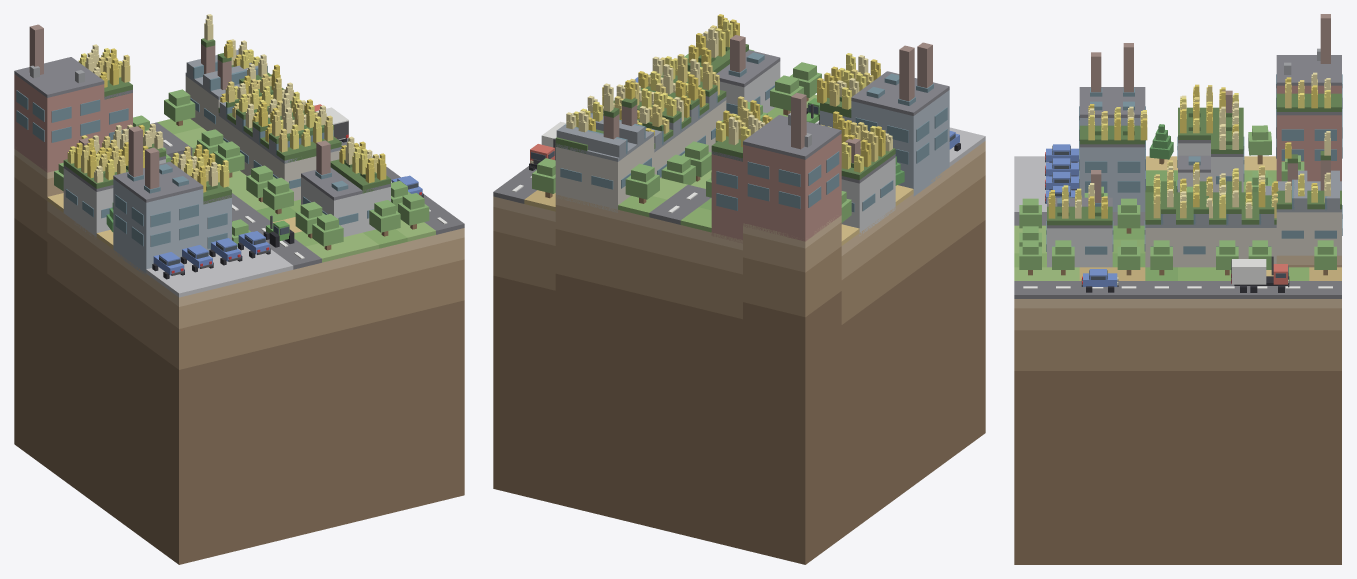
Rendered from block_9_urbanfarm_50.glb.
The picture shows the model from 3 angles, left to right: view 1: azimuth 30°, elevation 25°; view 2: azimuth 150°, elevation 25°; view 3: azimuth 270°, elevation 25°; orthographic projection. The views are drawn at different scales.
Visible parts, largest first — view 1: Patch_LowerLeft_b09_UF, Factories_LowerLeft_b09_UF, Ground_LowerLeft_b09_UF, UFR_Factories_LowerLeft_b09_UF, Parking_LowerLeft_b09_UF, Roads_LowerLeft_b09_UF, Asset_Tree_Round.001_UF, Asset_Tree_Round.021_UF, Asset_Tree_Round.022_UF, Asset_Tree_Round.023_UF, Asset_Tree_Round.013_UF, Asset_Tree_Round.007_UF (+7 smaller); view 2: Patch_LowerLeft_b09_UF, Factories_LowerLeft_b09_UF, UFR_Factories_LowerLeft_b09_UF, Ground_LowerLeft_b09_UF, Roads_LowerLeft_b09_UF, Asset_Tree_Round.001_UF, Asset_Tree_Round.017_UF, Asset_Tree_Round.005_UF, Asset_Truck.001_UF, Asset_Tree_Round.002_UF, Asset_Tree_Round.007_UF, Asset_Tree_Round.021_UF (+1 smaller); view 3: Patch_LowerLeft_b09_UF, Factories_LowerLeft_b09_UF, UFR_Factories_LowerLeft_b09_UF, Ground_LowerLeft_b09_UF, Roads_LowerLeft_b09_UF, Asset_Truck.001_UF, Parking_LowerLeft_b09_UF, Asset_Tree_Round.020_UF, Asset_Tree_Round.013_UF, Asset_Tree_Round.014_UF, Asset_Tree_Round.012_UF, Asset_Tree_Round.002_UF (+11 smaller).
Boxes of the visible parts, x1=… form: Patch_LowerLeft_b09_UF: x1=14, y1=147, x2=464, y2=564; Factories_LowerLeft_b09_UF: x1=14, y1=24, x2=390, y2=275; Ground_LowerLeft_b09_UF: x1=47, y1=119, x2=435, y2=262; UFR_Factories_LowerLeft_b09_UF: x1=63, y1=38, x2=390, y2=203; Parking_LowerLeft_b09_UF: x1=146, y1=246, x2=293, y2=297; Roads_LowerLeft_b09_UF: x1=150, y1=122, x2=464, y2=269; Asset_Tree_Round.001_UF: x1=164, y1=89, x2=195, y2=125; Asset_Tree_Round.021_UF: x1=312, y1=214, x2=343, y2=250; Asset_Tree_Round.022_UF: x1=369, y1=200, x2=400, y2=236; Asset_Tree_Round.023_UF: x1=398, y1=193, x2=429, y2=229; Asset_Tree_Round.013_UF: x1=263, y1=177, x2=293, y2=214; Asset_Tree_Round.007_UF: x1=213, y1=141, x2=244, y2=177; Patch_LowerLeft_b09_UF: x1=493, y1=141, x2=985, y2=564; Factories_LowerLeft_b09_UF: x1=555, y1=35, x2=949, y2=243; UFR_Factories_LowerLeft_b09_UF: x1=555, y1=44, x2=895, y2=179; Ground_LowerLeft_b09_UF: x1=524, y1=94, x2=913, y2=245; Roads_LowerLeft_b09_UF: x1=493, y1=123, x2=819, y2=224; Asset_Tree_Round.001_UF: x1=625, y1=163, x2=659, y2=203; Asset_Tree_Round.017_UF: x1=770, y1=75, x2=803, y2=115; Asset_Tree_Round.005_UF: x1=661, y1=154, x2=695, y2=185; Asset_Truck.001_UF: x1=529, y1=121, x2=566, y2=170; Asset_Tree_Round.002_UF: x1=532, y1=158, x2=555, y2=198; Asset_Tree_Round.007_UF: x1=681, y1=141, x2=711, y2=181; Asset_Tree_Round.021_UF: x1=790, y1=62, x2=821, y2=101; Patch_LowerLeft_b09_UF: x1=1014, y1=255, x2=1341, y2=564; Factories_LowerLeft_b09_UF: x1=1046, y1=14, x2=1342, y2=267; UFR_Factories_LowerLeft_b09_UF: x1=1047, y1=93, x2=1341, y2=225; Ground_LowerLeft_b09_UF: x1=1014, y1=156, x2=1341, y2=280; Roads_LowerLeft_b09_UF: x1=1014, y1=212, x2=1341, y2=298; Asset_Truck.001_UF: x1=1231, y1=256, x2=1289, y2=292; Parking_LowerLeft_b09_UF: x1=1014, y1=156, x2=1078, y2=211; Asset_Tree_Round.020_UF: x1=1248, y1=125, x2=1271, y2=164; Asset_Tree_Round.013_UF: x1=1117, y1=198, x2=1140, y2=233; Asset_Tree_Round.014_UF: x1=1117, y1=240, x2=1140, y2=275; Asset_Tree_Round.012_UF: x1=1150, y1=240, x2=1172, y2=275; Asset_Tree_Round.002_UF: x1=1314, y1=240, x2=1336, y2=275.
Size of the model in its own units: 9.52 by 13.33 by 9.52.
